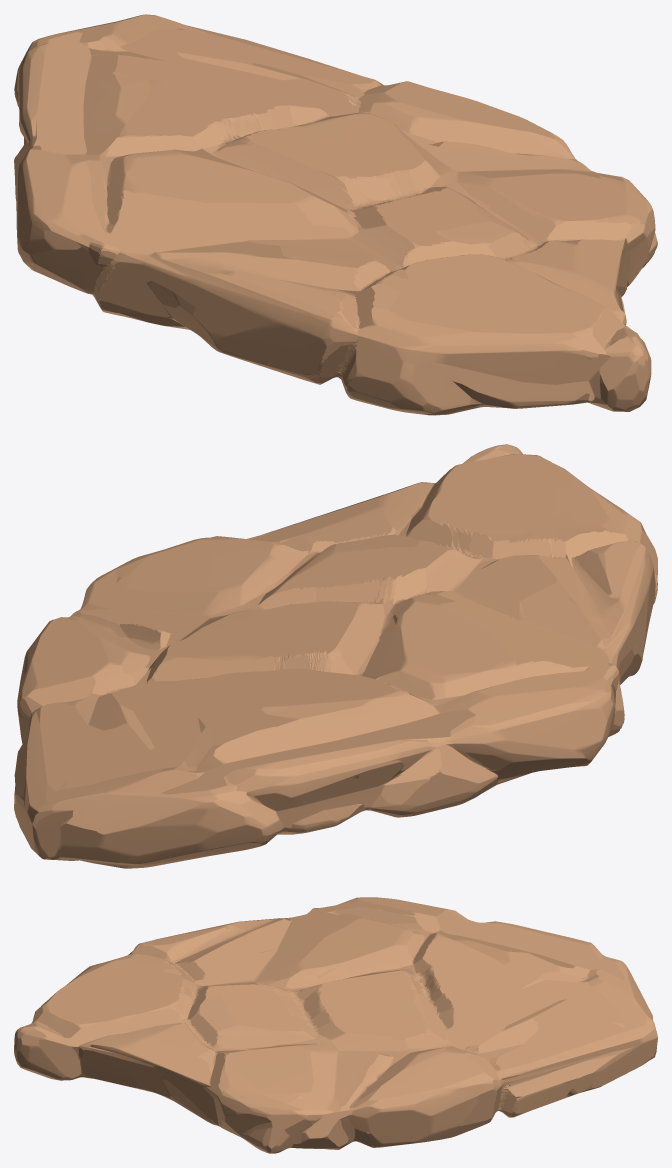
The picture shows the model from 3 angles, top to bottom: view 1: azimuth 30°, elevation 25°; view 2: azimuth 150°, elevation 25°; view 3: azimuth 270°, elevation 25°; orthographic projection. The views are drawn at different scales.
Visible parts, largest first — view 1: Mesh_56_LOD0; view 2: Mesh_56_LOD0; view 3: Mesh_56_LOD0.
Boxes of the visible parts, x1,y1,x2,y2 form: Mesh_56_LOD0: (14,14,657,415); Mesh_56_LOD0: (14,444,657,868); Mesh_56_LOD0: (14,897,657,1153).
Size of what is drawn, in the model's own units: 3025 by 706 by 4490.
